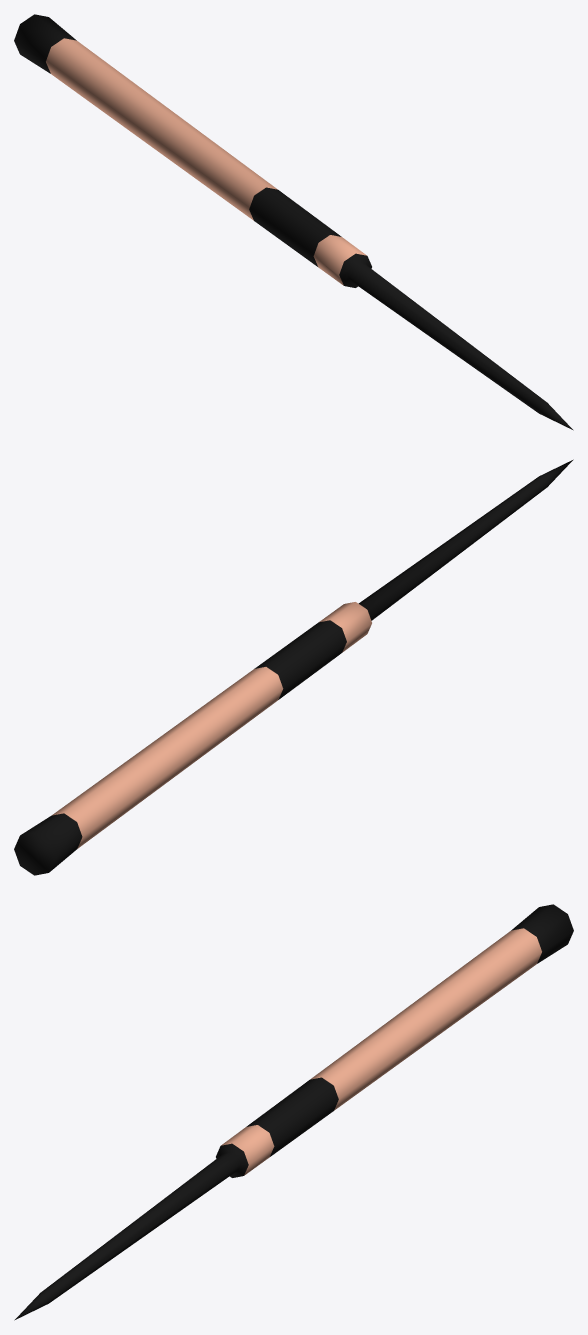
The model's file is fishing_rod_compact.glb.
3 views of the same model, one above another, from view 1: azimuth 30°, elevation 25°; view 2: azimuth 150°, elevation 25°; view 3: azimuth 330°, elevation 25° (orthographic).
Visible parts, largest first — view 1: fishing_rod_compact; view 2: fishing_rod_compact; view 3: fishing_rod_compact.
Part boxes in pixels (x1,y1,x2,y2): fishing_rod_compact: (14,14,573,430); fishing_rod_compact: (14,459,573,875); fishing_rod_compact: (14,904,573,1320).
Size of the model in its own units: 0.0119 by 0.0119 by 0.2719.
